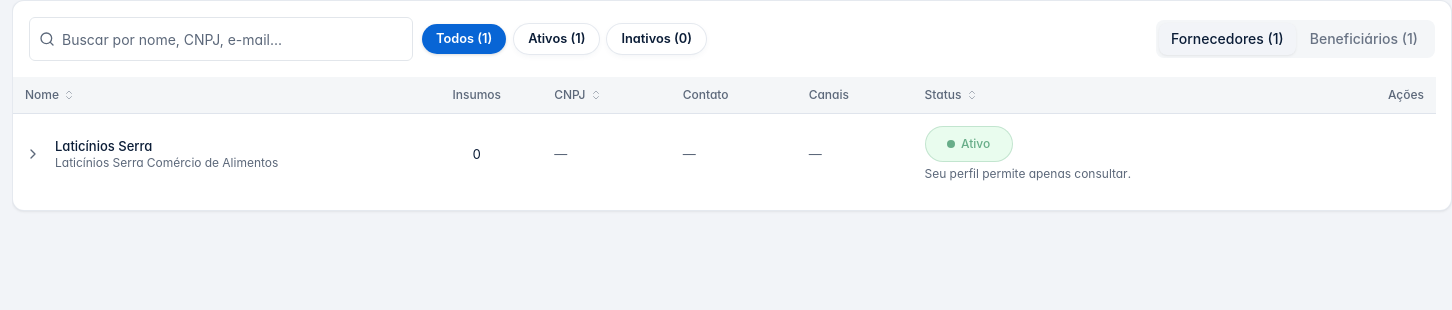
beneficiários › separa as abas, informa os ativos e exibe o cadastro simplificado
Check: the tab "Fornecedores (1)" is shown, box top-left (1159, 23), bottom-right (1296, 55)
Check: the text "Laticínios Serra" is shown, box top-left (55, 138), bottom-right (152, 154)
What coordinates should you click on to do the following:
click the tab "Beneficiários (1)"
I would click on:
 (1364, 39)
Its box is top-left (1296, 23), bottom-right (1432, 55).
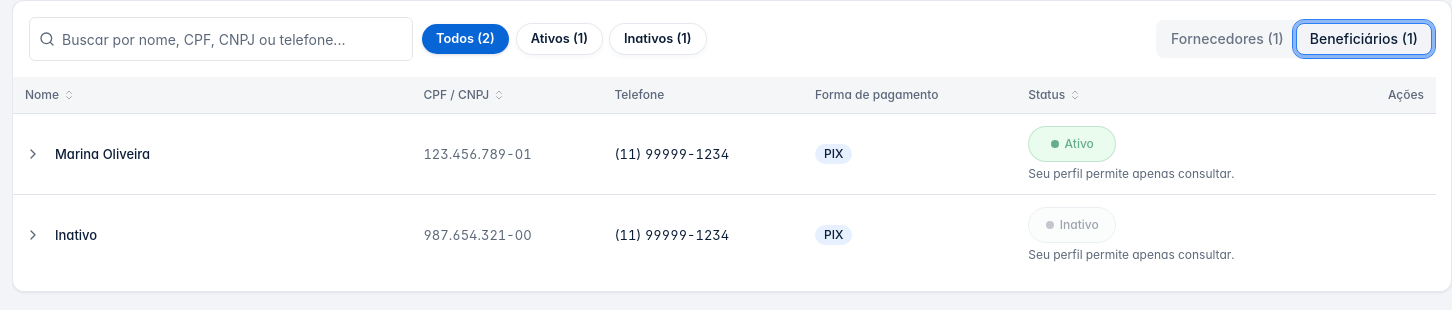
Check: the text "Marina Oliveira" is shown, box top-left (55, 145), bottom-right (150, 163)
Check: the text "123.456.789-01" is shown, box top-left (411, 114), bottom-right (602, 194)
Check: the icon "PIX" in the row of "Marina Oliveira" is shown, box top-left (824, 146), bottom-right (843, 161)
